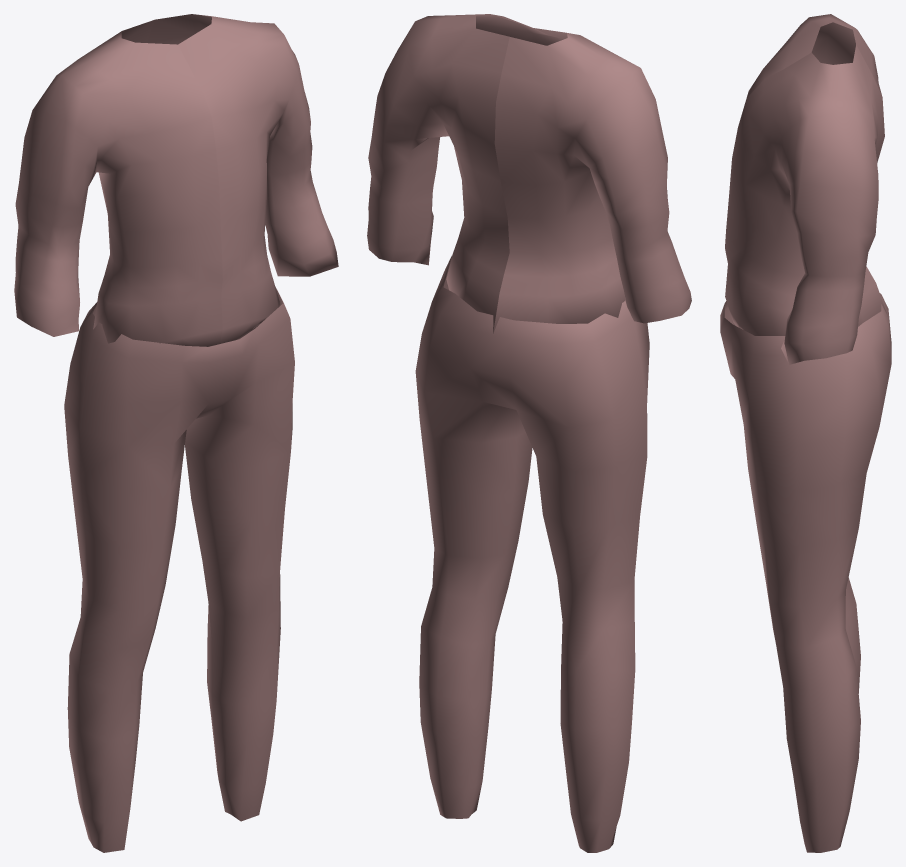
File: M_chemise et pantalon .fbx
The picture shows the model from 3 angles, left to right: view 1: azimuth 30°, elevation 25°; view 2: azimuth 150°, elevation 25°; view 3: azimuth 270°, elevation 25°; orthographic projection. The views are drawn at different scales.
Visible parts, largest first — view 1: polySurface363; view 2: polySurface363; view 3: polySurface363.
Part boxes in pixels (x1=…): polySurface363: x1=14, y1=14, x2=338, y2=852; polySurface363: x1=367, y1=14, x2=691, y2=852; polySurface363: x1=720, y1=14, x2=891, y2=852.
Size of the model in its own units: 0.5825 by 0.2894 by 1.44.
